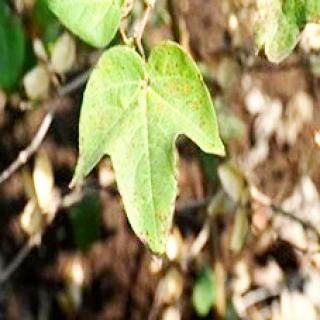leaf spot: (76, 40, 225, 256)
